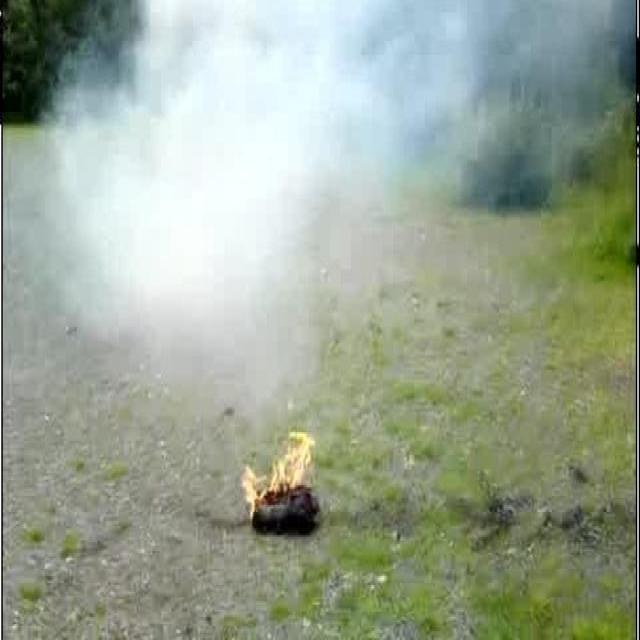Fire: (240, 428, 318, 524)
Smoke: (37, 0, 635, 418)
